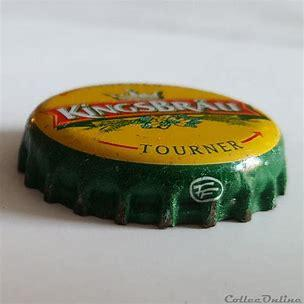metal: (18, 84, 288, 228)
